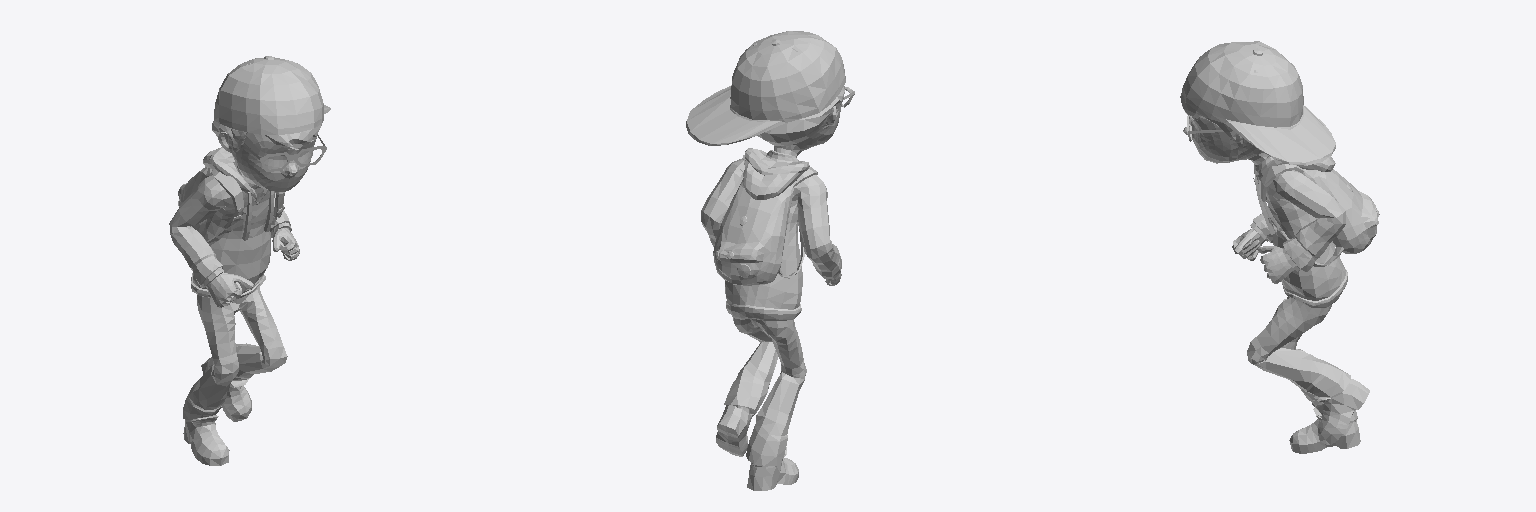
The model's file is walk00.obj.
3 views of the same model, side by side, from view 1: azimuth 30°, elevation 25°; view 2: azimuth 150°, elevation 25°; view 3: azimuth 270°, elevation 25° (orthographic).
Visible parts, largest first — view 1: Boy01_Body_Geo_Boy01_Body_GeoMesh, h_Geo_h_GeoMesh, Boy01_Eyes_Geo_Boy01_Eyes_GeoMesh, Boy01_Brows_Geo_Boy01_Brows_GeoMesh; view 2: Boy01_Body_Geo_Boy01_Body_GeoMesh; view 3: Boy01_Body_Geo_Boy01_Body_GeoMesh.
Boxes of the visible parts, x1,y1,x2,y2 form: Boy01_Body_Geo_Boy01_Body_GeoMesh: [169, 56, 330, 465]; h_Geo_h_GeoMesh: [253, 161, 310, 191]; Boy01_Eyes_Geo_Boy01_Eyes_GeoMesh: [249, 143, 314, 172]; Boy01_Brows_Geo_Boy01_Brows_GeoMesh: [249, 134, 317, 155]; Boy01_Body_Geo_Boy01_Body_GeoMesh: [686, 31, 854, 490]; Boy01_Body_Geo_Boy01_Body_GeoMesh: [1180, 41, 1379, 453].
Size of the model in its own units: 0.6564 by 1.76 by 0.7664.